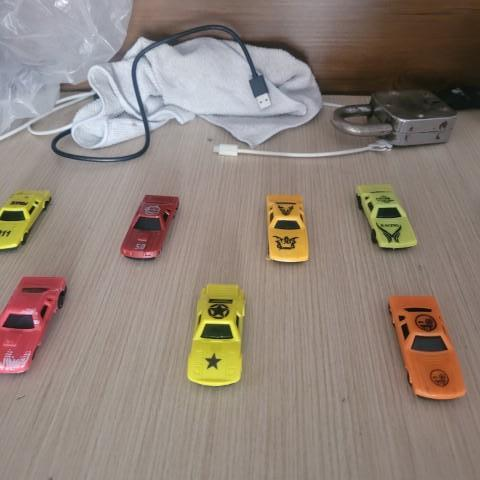car: (387, 291, 469, 408), (189, 281, 248, 387), (118, 191, 182, 263), (266, 190, 311, 267)
